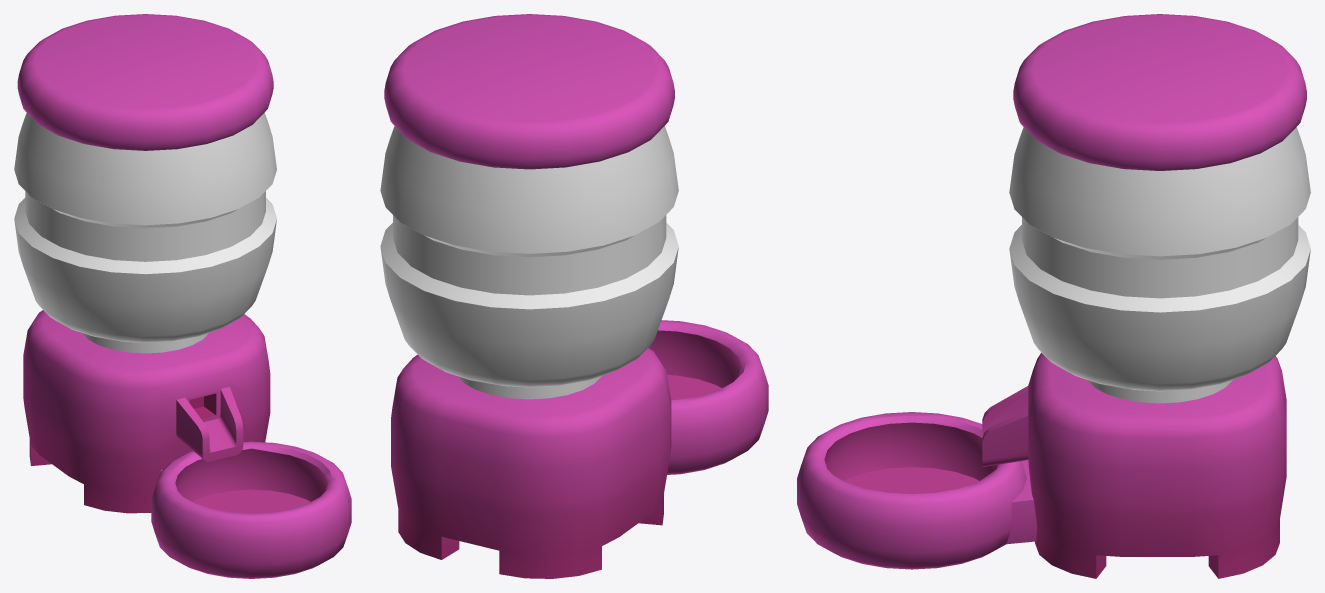
File: CatFeeder.fbx
3 renders of one model, left to right at view 1: azimuth 30°, elevation 25°; view 2: azimuth 150°, elevation 25°; view 3: azimuth 270°, elevation 25°, orthographic. The views are drawn at different scales.
Parts seen in each view (by area): view 1: FeederTop.001, FeederBottom.001, FeederBowl.001; view 2: FeederTop.001, FeederBottom.001, FeederBowl.001; view 3: FeederTop.001, FeederBottom.001, FeederBowl.001.
Boxes of the visible parts, bbox=[...] form: FeederTop.001: bbox=[14, 14, 276, 353]; FeederBottom.001: bbox=[23, 310, 270, 513]; FeederBowl.001: bbox=[151, 441, 351, 578]; FeederTop.001: bbox=[380, 14, 678, 399]; FeederBottom.001: bbox=[391, 348, 671, 578]; FeederBowl.001: bbox=[648, 320, 768, 474]; FeederTop.001: bbox=[1009, 14, 1310, 403]; FeederBottom.001: bbox=[982, 352, 1286, 578]; FeederBowl.001: bbox=[797, 412, 1036, 569].
Size of the model in its own units: 246 by 414 by 420.
